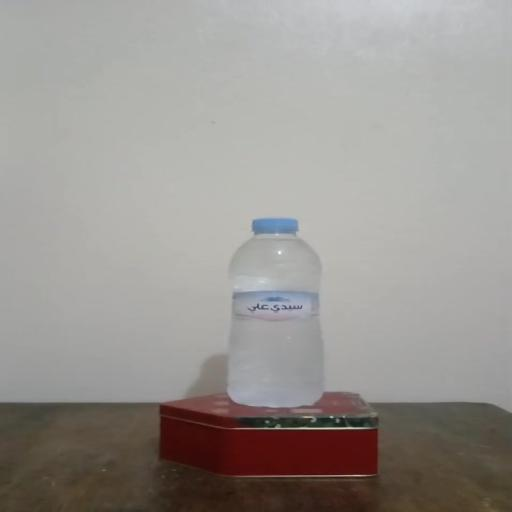bouteille conformite: (186, 217, 330, 411)
